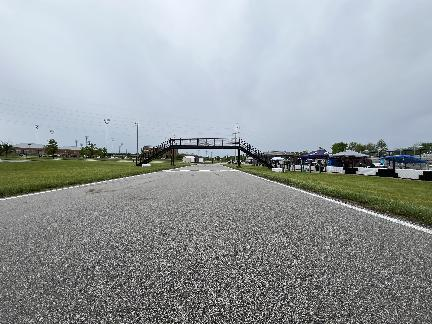Grass: (239, 165, 431, 224), (0, 159, 184, 197)
Lane: (0, 165, 431, 323)
